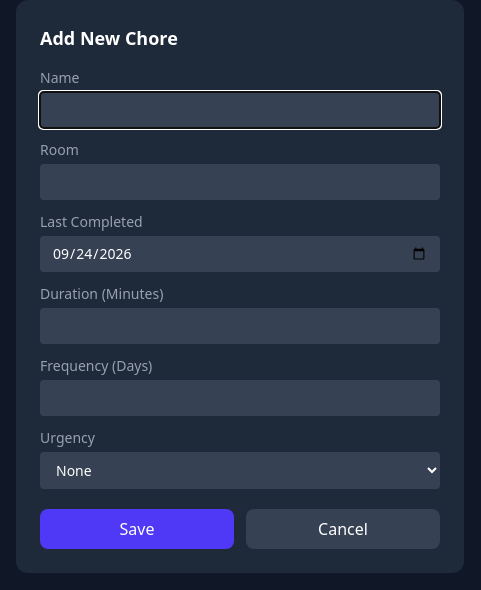
Test case: ChoreForm clear-✕ (F14) › Room field shows a clear-✕ once typed and clears only Room on click
Type "Kitchen" into the field labelled "Room" at (240, 182), box left=40, top=164, right=440, bottom=200
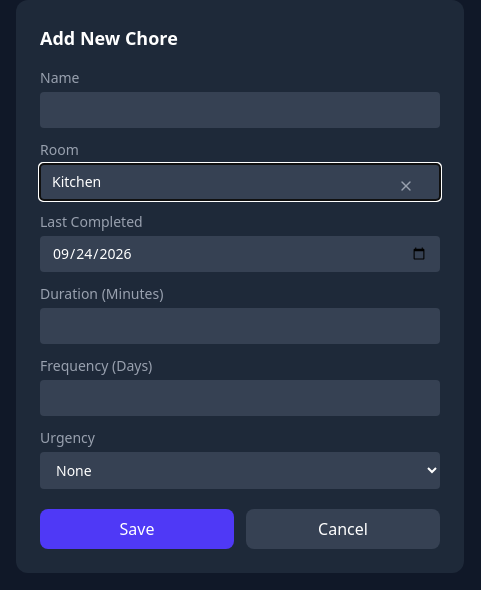
Type "Sweep" into the field labelled "Name" at (240, 110), box left=40, top=92, right=440, bottom=128
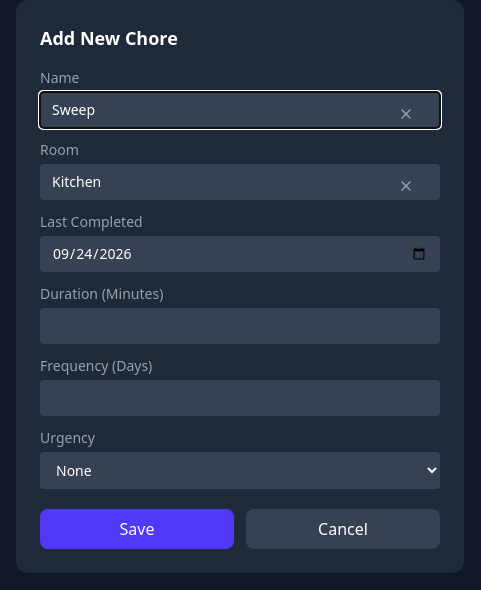
Click the button named "Clear Room" at (406, 186), box left=384, top=164, right=428, bottom=208
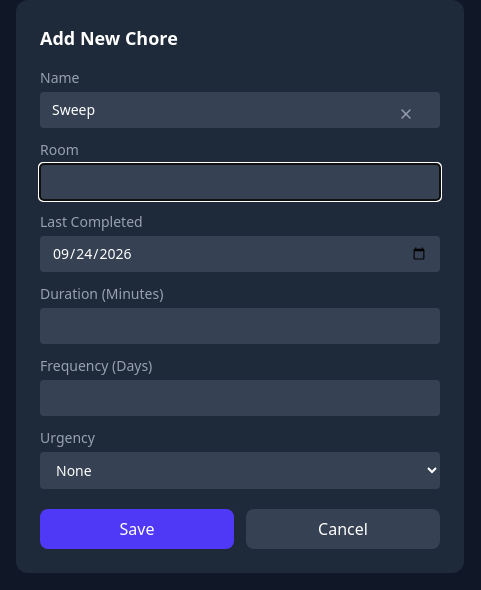
Now the field labelled "Room" is empty, box left=40, top=164, right=440, bottom=200
